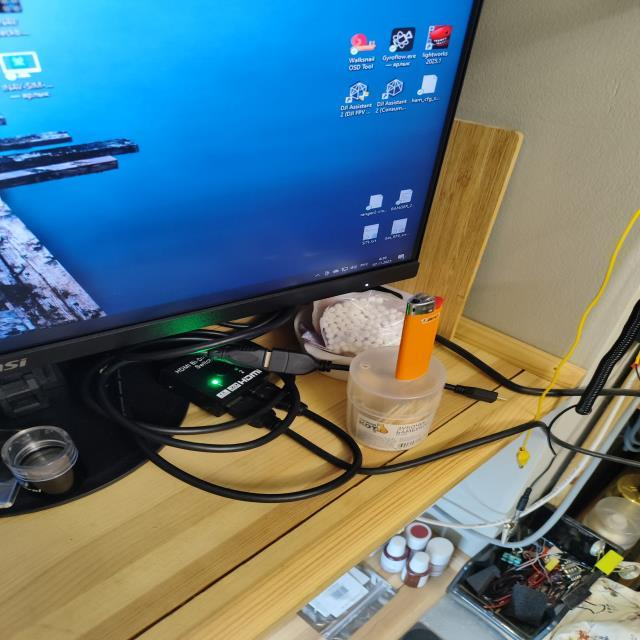lighter: (395, 294, 440, 380)
